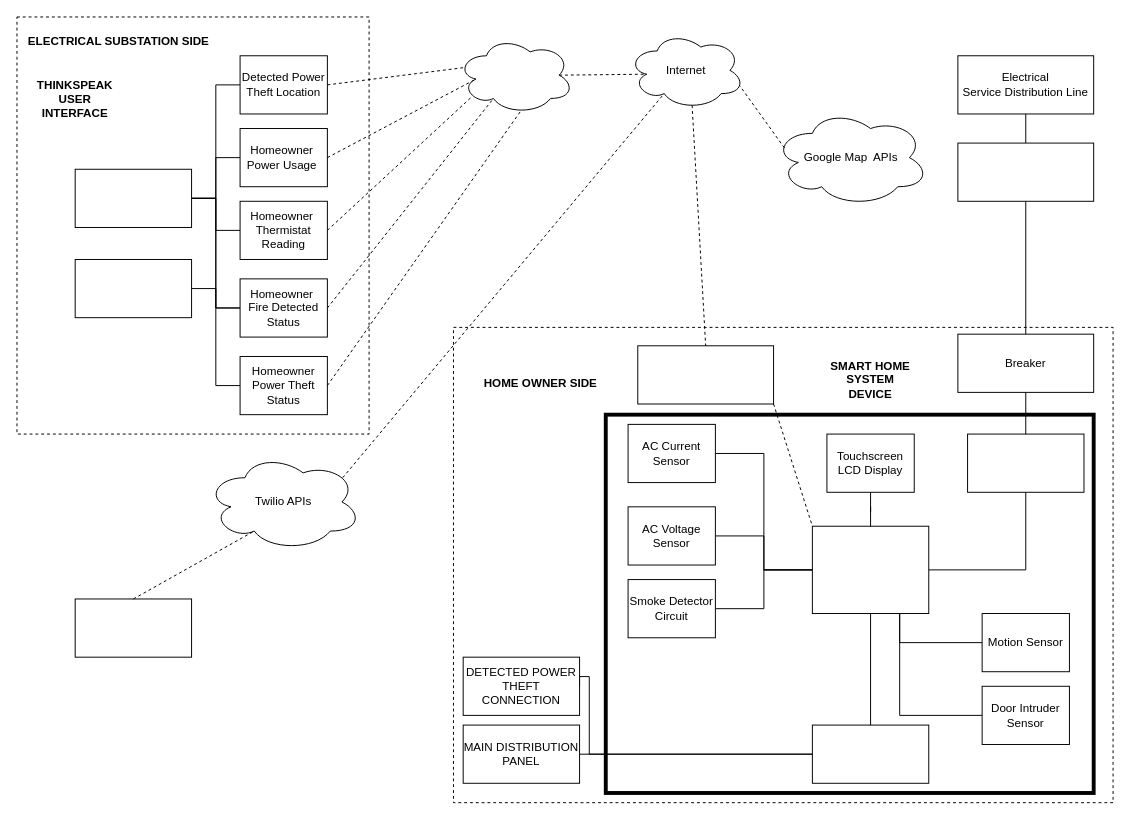
The diagram is 1130 pixels wide and 820 high, and some of its shapes have lost their labels. Here are the shapes that lost their labels. From the top down, the centre of each, then its label:
At point 515,74: "Thinkspeak".
At point 1025,171: "Electric Meter".
At point 133,197: "DATA TABLE FORMAT".
At point 133,288: "DATA CHART VISUALIZATION".
At point 705,374: "Wireless Router".
At point 1025,462: "AC/DC Converter".
At point 870,569: "ESP32".
At point 133,627: "Home Owner Cellphone".
At point 870,753: "AC HIGH POWER RELAY".
